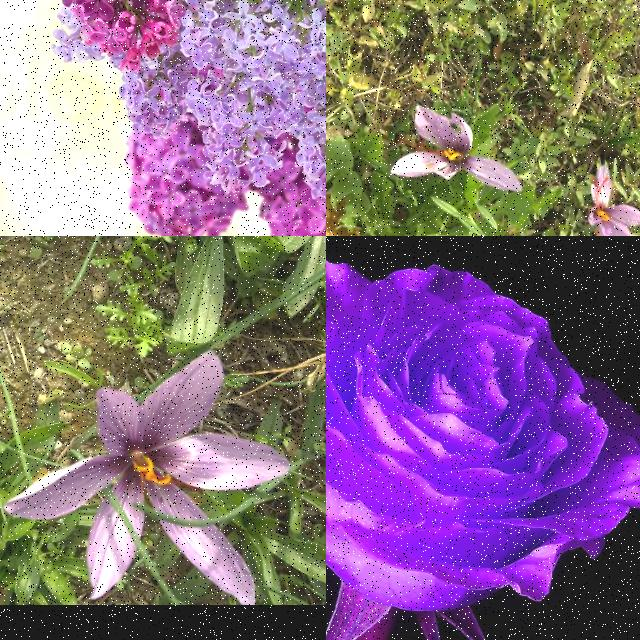flower: (6, 350, 290, 606), (390, 104, 522, 192), (588, 164, 640, 236)
